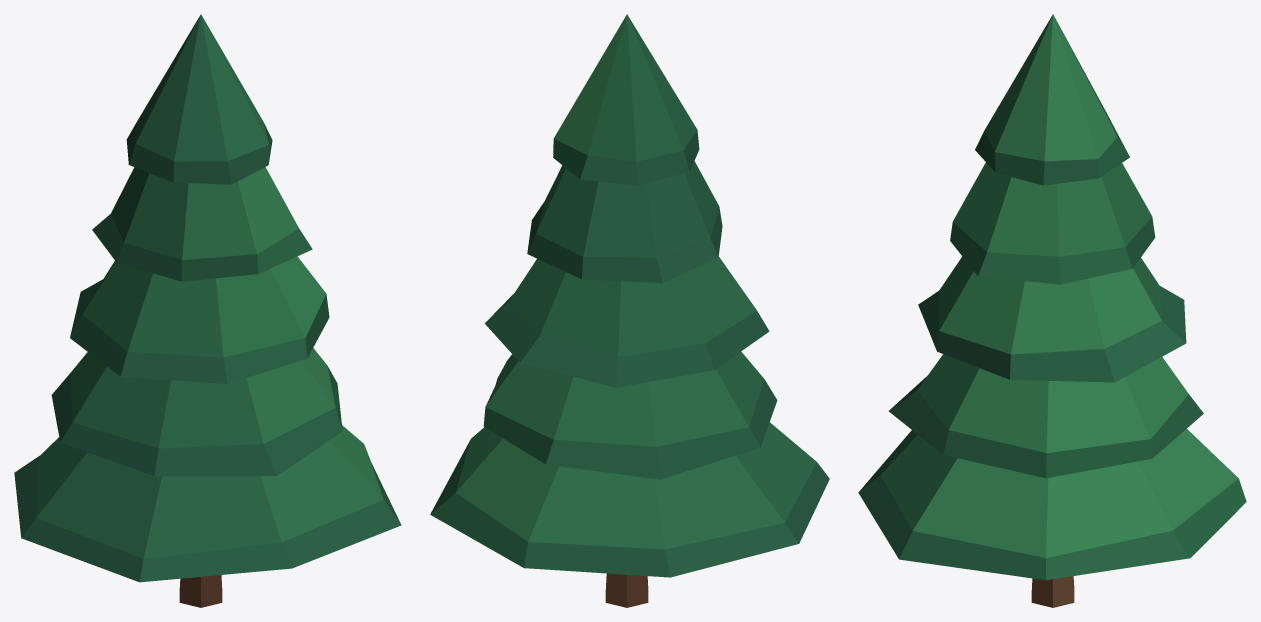
The model's file is pine.glb.
The picture shows the model from 3 angles, left to right: view 1: azimuth 30°, elevation 25°; view 2: azimuth 150°, elevation 25°; view 3: azimuth 270°, elevation 25°; orthographic projection.
Parts seen in each view (by area): view 1: pine; view 2: pine; view 3: pine.
Boxes of the visible parts, x1,y1,x2,y2 form: pine: (14, 14, 401, 607); pine: (430, 14, 829, 607); pine: (858, 14, 1246, 607).
Size of the model in its own units: 3.2 by 5.21 by 3.14.
